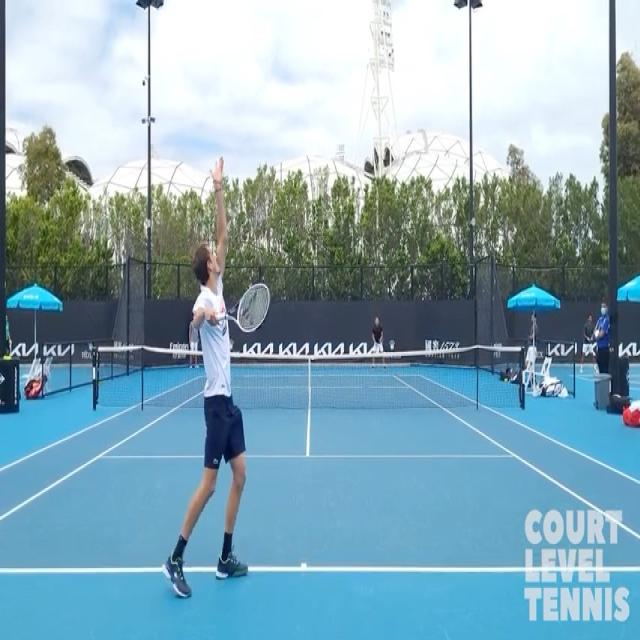serve_toss: (162, 160, 286, 588)
